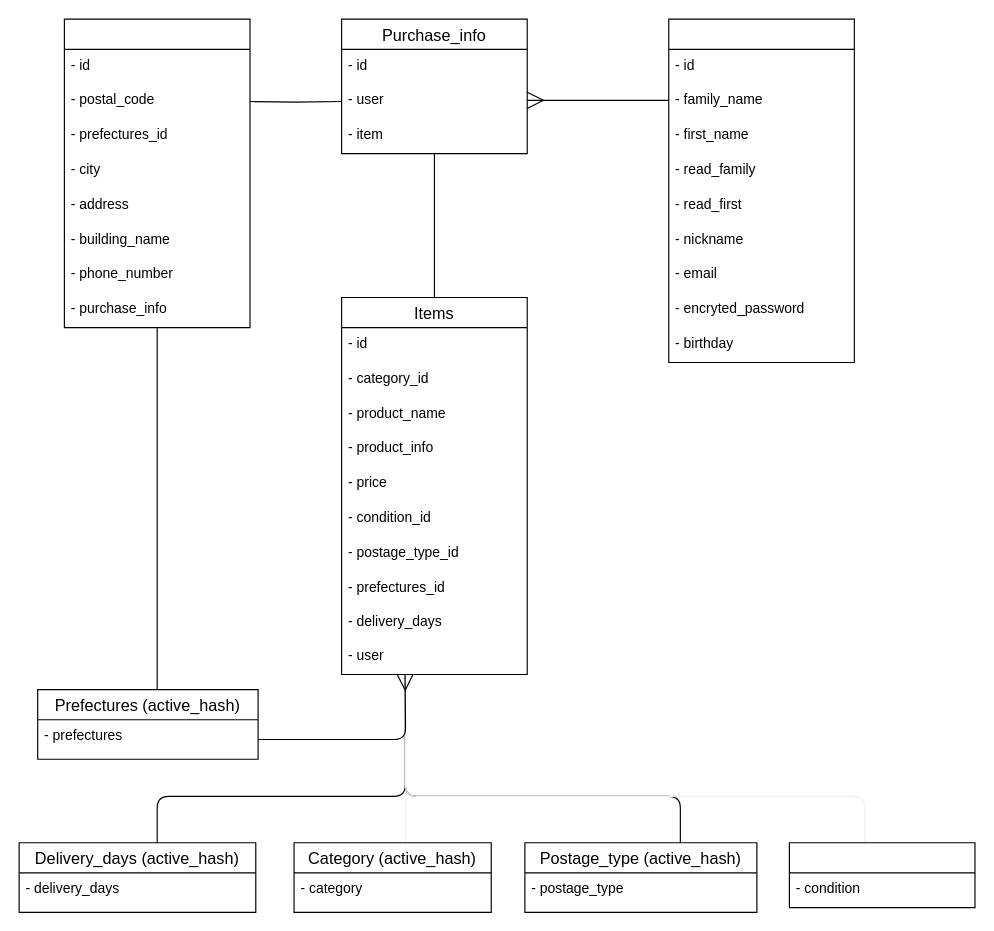
The diagram is 994 pixels wide and 931 high, and some of its shapes have lost their labels. The shapes that lost their labels are listed below. From the top down, each one's box as (x1, y1, x2, y2) in pixels, then its label:
(63, 18, 250, 328): Sipping_address
(668, 18, 854, 362): Users
(788, 842, 975, 908): condition (active_hash)
